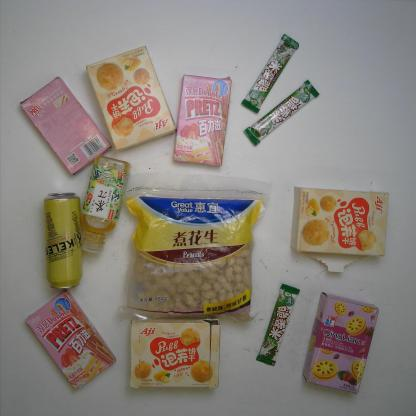Alcohol: (40, 187, 86, 292)
Chocolate: (240, 75, 322, 148), (239, 30, 301, 115), (253, 281, 302, 369)
Dessert: (82, 42, 179, 153), (17, 73, 114, 178), (23, 286, 118, 392), (286, 182, 391, 275), (300, 288, 380, 396), (125, 314, 224, 391), (171, 71, 234, 170)
Dried Food: (115, 168, 273, 325)
Drink: (76, 153, 133, 257)
